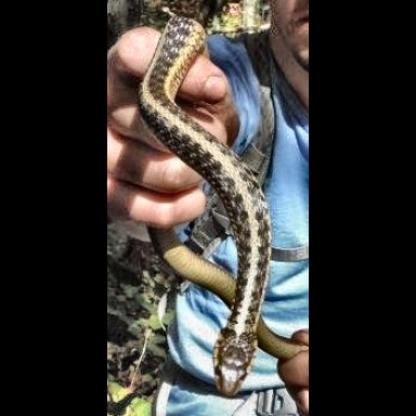Snake: (139, 2, 272, 398)
